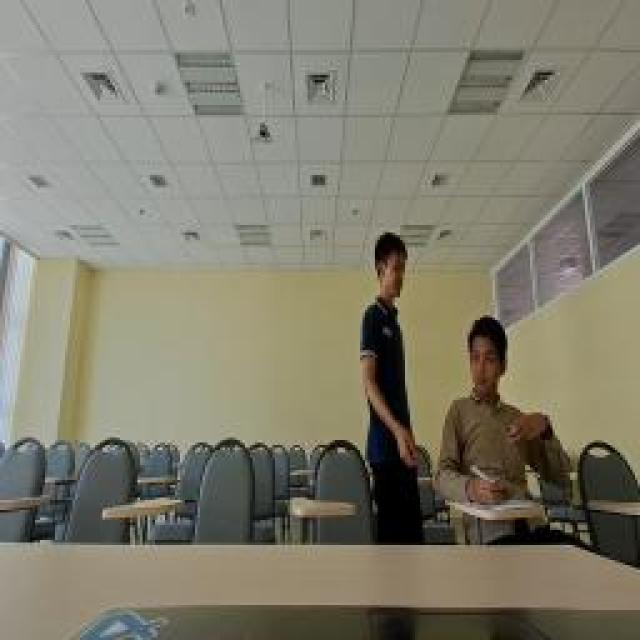study: (432, 300, 548, 510)
